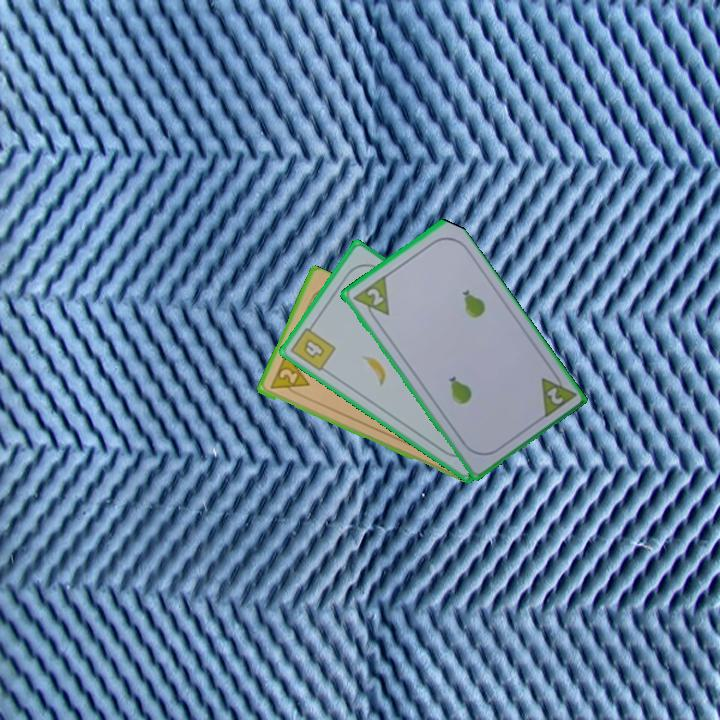2p: (265, 351, 312, 399), (537, 366, 578, 421), (363, 284, 386, 308)
4b: (287, 319, 339, 374)
